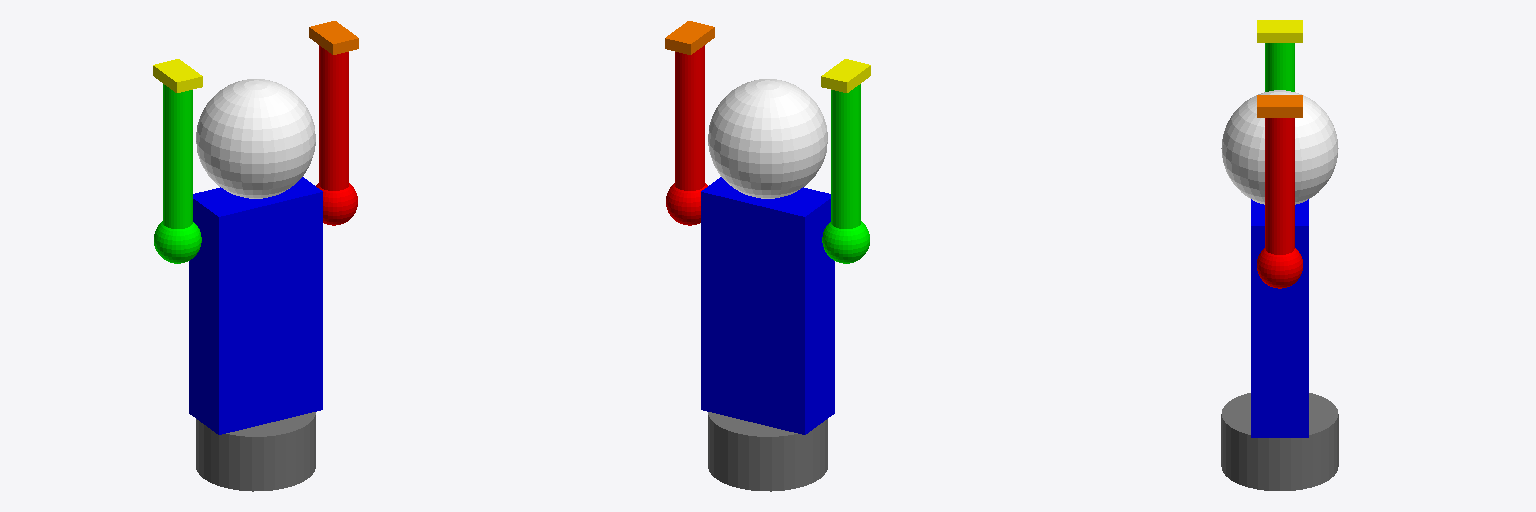
robot.urdf — branched_robot:
<?xml version="1.0"?>
<!-- Robot with multiple end effectors (branched tree) for testing tip selection -->
<robot name="branched_robot">
  <link name="base_link">
    <visual>
      <geometry>
        <cylinder radius="0.1" length="0.1"/>
      </geometry>
      <material name="gray">
        <color rgba="0.5 0.5 0.5 1"/>
      </material>
    </visual>
    <inertial>
      <mass value="5.0"/>
      <inertia ixx="0.05" ixy="0" ixz="0" iyy="0.05" iyz="0" izz="0.05"/>
    </inertial>
  </link>

  <link name="torso">
    <visual>
      <geometry>
        <box size="0.2 0.1 0.4"/>
      </geometry>
      <origin xyz="0 0 0.2" rpy="0 0 0"/>
      <material name="blue">
        <color rgba="0 0 1 1"/>
      </material>
    </visual>
    <inertial>
      <mass value="10.0"/>
      <origin xyz="0 0 0.2" rpy="0 0 0"/>
      <inertia ixx="0.2" ixy="0" ixz="0" iyy="0.2" iyz="0" izz="0.05"/>
    </inertial>
  </link>

  <!-- Left arm chain -->
  <link name="left_shoulder">
    <visual>
      <geometry>
        <sphere radius="0.04"/>
      </geometry>
      <material name="red">
        <color rgba="1 0 0 1"/>
      </material>
    </visual>
    <inertial>
      <mass value="0.3"/>
      <inertia ixx="0.001" ixy="0" ixz="0" iyy="0.001" iyz="0" izz="0.001"/>
    </inertial>
  </link>

  <link name="left_arm">
    <visual>
      <geometry>
        <cylinder radius="0.025" length="0.3"/>
      </geometry>
      <origin xyz="0 0 0.15" rpy="0 0 0"/>
      <material name="red">
        <color rgba="1 0 0 1"/>
      </material>
    </visual>
    <inertial>
      <mass value="0.8"/>
      <origin xyz="0 0 0.15" rpy="0 0 0"/>
      <inertia ixx="0.008" ixy="0" ixz="0" iyy="0.008" iyz="0" izz="0.001"/>
    </inertial>
  </link>

  <link name="left_hand">
    <visual>
      <geometry>
        <box size="0.05 0.08 0.02"/>
      </geometry>
      <material name="orange">
        <color rgba="1 0.5 0 1"/>
      </material>
    </visual>
    <inertial>
      <mass value="0.2"/>
      <inertia ixx="0.0005" ixy="0" ixz="0" iyy="0.0005" iyz="0" izz="0.0005"/>
    </inertial>
  </link>

  <!-- Right arm chain -->
  <link name="right_shoulder">
    <visual>
      <geometry>
        <sphere radius="0.04"/>
      </geometry>
      <material name="green">
        <color rgba="0 1 0 1"/>
      </material>
    </visual>
    <inertial>
      <mass value="0.3"/>
      <inertia ixx="0.001" ixy="0" ixz="0" iyy="0.001" iyz="0" izz="0.001"/>
    </inertial>
  </link>

  <link name="right_arm">
    <visual>
      <geometry>
        <cylinder radius="0.025" length="0.3"/>
      </geometry>
      <origin xyz="0 0 0.15" rpy="0 0 0"/>
      <material name="green">
        <color rgba="0 1 0 1"/>
      </material>
    </visual>
    <inertial>
      <mass value="0.8"/>
      <origin xyz="0 0 0.15" rpy="0 0 0"/>
      <inertia ixx="0.008" ixy="0" ixz="0" iyy="0.008" iyz="0" izz="0.001"/>
    </inertial>
  </link>

  <link name="right_hand">
    <visual>
      <geometry>
        <box size="0.05 0.08 0.02"/>
      </geometry>
      <material name="yellow">
        <color rgba="1 1 0 1"/>
      </material>
    </visual>
    <inertial>
      <mass value="0.2"/>
      <inertia ixx="0.0005" ixy="0" ixz="0" iyy="0.0005" iyz="0" izz="0.0005"/>
    </inertial>
  </link>

  <!-- Head -->
  <link name="head">
    <visual>
      <geometry>
        <sphere radius="0.1"/>
      </geometry>
      <material name="white">
        <color rgba="1 1 1 1"/>
      </material>
    </visual>
    <inertial>
      <mass value="1.0"/>
      <inertia ixx="0.004" ixy="0" ixz="0" iyy="0.004" iyz="0" izz="0.004"/>
    </inertial>
  </link>

  <!-- Joints -->
  <joint name="torso_joint" type="revolute">
    <parent link="base_link"/>
    <child link="torso"/>
    <origin xyz="0 0 0.05" rpy="0 0 0"/>
    <axis xyz="0 0 1"/>
    <limit lower="-1.57" upper="1.57" effort="100" velocity="1"/>
  </joint>

  <!-- Left arm joints -->
  <joint name="left_shoulder_joint" type="revolute">
    <parent link="torso"/>
    <child link="left_shoulder"/>
    <origin xyz="0.15 0 0.35" rpy="0 0 0"/>
    <axis xyz="0 1 0"/>
    <limit lower="-1.57" upper="1.57" effort="30" velocity="2"/>
  </joint>

  <joint name="left_arm_joint" type="revolute">
    <parent link="left_shoulder"/>
    <child link="left_arm"/>
    <origin xyz="0 0 0" rpy="0 0 0"/>
    <axis xyz="1 0 0"/>
    <limit lower="-1.57" upper="1.57" effort="20" velocity="2"/>
  </joint>

  <joint name="left_wrist_joint" type="revolute">
    <parent link="left_arm"/>
    <child link="left_hand"/>
    <origin xyz="0 0 0.3" rpy="0 0 0"/>
    <axis xyz="0 1 0"/>
    <limit lower="-1.57" upper="1.57" effort="10" velocity="2"/>
  </joint>

  <!-- Right arm joints -->
  <joint name="right_shoulder_joint" type="revolute">
    <parent link="torso"/>
    <child link="right_shoulder"/>
    <origin xyz="-0.15 0 0.35" rpy="0 0 0"/>
    <axis xyz="0 1 0"/>
    <limit lower="-1.57" upper="1.57" effort="30" velocity="2"/>
  </joint>

  <joint name="right_arm_joint" type="revolute">
    <parent link="right_shoulder"/>
    <child link="right_arm"/>
    <origin xyz="0 0 0" rpy="0 0 0"/>
    <axis xyz="1 0 0"/>
    <limit lower="-1.57" upper="1.57" effort="20" velocity="2"/>
  </joint>

  <joint name="right_wrist_joint" type="revolute">
    <parent link="right_arm"/>
    <child link="right_hand"/>
    <origin xyz="0 0 0.3" rpy="0 0 0"/>
    <axis xyz="0 1 0"/>
    <limit lower="-1.57" upper="1.57" effort="10" velocity="2"/>
  </joint>

  <!-- Head joint -->
  <joint name="head_joint" type="revolute">
    <parent link="torso"/>
    <child link="head"/>
    <origin xyz="0 0 0.5" rpy="0 0 0"/>
    <axis xyz="0 0 1"/>
    <limit lower="-1.57" upper="1.57" effort="10" velocity="2"/>
  </joint>
</robot>

--- Render facts (derived) ---
3 views of the same robot in one strip: view 1: azimuth 30°, elevation 25°; view 2: azimuth 150°, elevation 25°; view 3: azimuth 270°, elevation 25° (orthographic).
Model branched_robot with 9 links and 8 joints (8 revolute), rooted at base_link, posed all joints at 0.
Visible links, largest first — view 1: torso, head, base_link, left_arm, right_arm, right_shoulder, right_hand, left_hand, left_shoulder; view 2: torso, head, base_link, left_arm, right_arm, right_shoulder, right_hand, left_hand, left_shoulder; view 3: torso, base_link, head, left_arm, right_arm, left_shoulder, left_hand, right_hand.
Boxes of the visible links, left/top/right/bottom form: torso: left=189, top=177, right=322, bottom=434; head: left=196, top=79, right=315, bottom=198; base_link: left=196, top=412, right=315, bottom=491; left_arm: left=319, top=45, right=348, bottom=190; right_arm: left=163, top=84, right=192, bottom=228; right_shoulder: left=154, top=221, right=201, bottom=263; right_hand: left=153, top=59, right=202, bottom=92; left_hand: left=309, top=21, right=358, bottom=54; left_shoulder: left=316, top=183, right=357, bottom=225; torso: left=701, top=177, right=834, bottom=434; head: left=708, top=79, right=827, bottom=198; base_link: left=708, top=412, right=827, bottom=491; left_arm: left=675, top=45, right=704, bottom=190; right_arm: left=831, top=84, right=860, bottom=228; right_shoulder: left=822, top=221, right=869, bottom=263; right_hand: left=821, top=59, right=870, bottom=92; left_hand: left=665, top=21, right=714, bottom=54; left_shoulder: left=666, top=183, right=707, bottom=225; torso: left=1251, top=199, right=1308, bottom=437; base_link: left=1221, top=393, right=1338, bottom=490; head: left=1221, top=90, right=1338, bottom=204; left_arm: left=1265, top=118, right=1294, bottom=254; right_arm: left=1265, top=43, right=1294, bottom=91; left_shoulder: left=1257, top=248, right=1302, bottom=288; left_hand: left=1257, top=95, right=1302, bottom=117; right_hand: left=1257, top=20, right=1302, bottom=42.
Bounding box of the posed robot: 0.38 × 0.2 × 0.76 m (x, y, z).
Geometry: primitives only (box / cylinder / sphere), no mesh files.